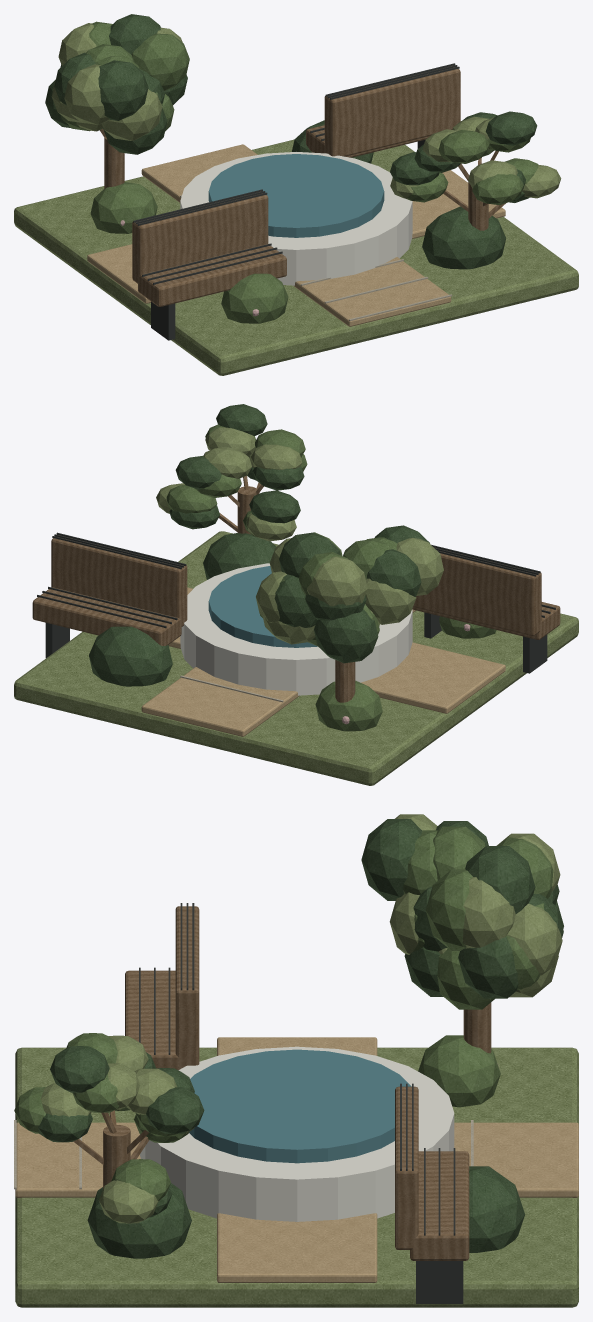
The model's file is PARK_1x1_004.glb.
The picture shows the model from 3 angles, top to bottom: view 1: azimuth 30°, elevation 25°; view 2: azimuth 150°, elevation 25°; view 3: azimuth 270°, elevation 25°; orthographic projection. The views are drawn at different scales.
Visible parts, largest first — view 1: PARK_1x1_004_Visual; view 2: PARK_1x1_004_Visual; view 3: PARK_1x1_004_Visual.
Part boxes in pixels (x1,y1,x2,y2): PARK_1x1_004_Visual: [14, 14, 578, 375]; PARK_1x1_004_Visual: [14, 404, 578, 785]; PARK_1x1_004_Visual: [14, 814, 578, 1307].
Size of what is drawn, in the model's own units: 2.12 by 1.06 by 1.9.
Materials: 11 (8 with a texture image).
